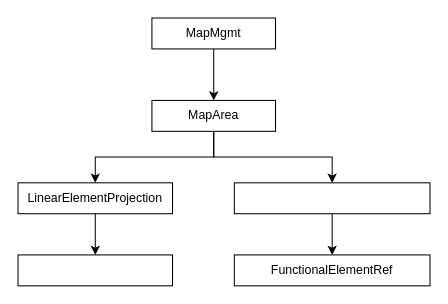
Some shapes in this 448 by 304 pixel diagram are drawn without their labels. The shapes that lost their labels are listed below. From the top down, each one's box as (x1, y1, x2, y2) in pixels, then its label:
(233, 182, 430, 214): FunctionalElementProjection
(17, 254, 173, 286): LinearElementCoordinate
